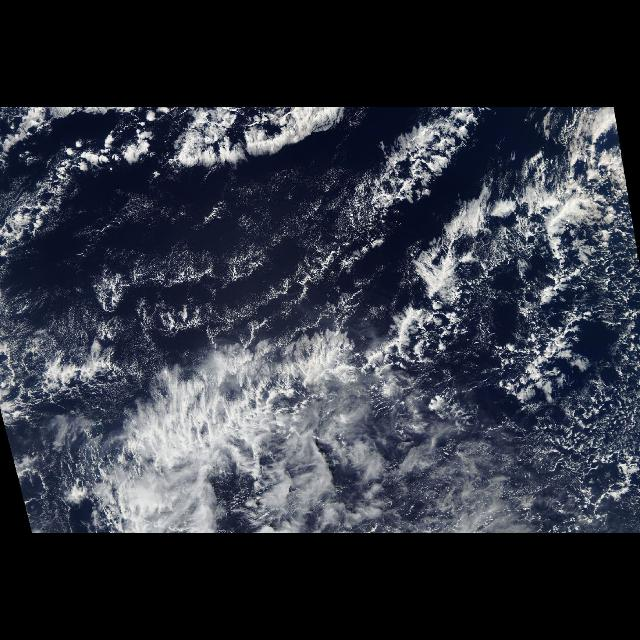Fish: (99, 108, 611, 436)
Gravel: (474, 204, 638, 532)
Sugar: (1, 260, 231, 402)
